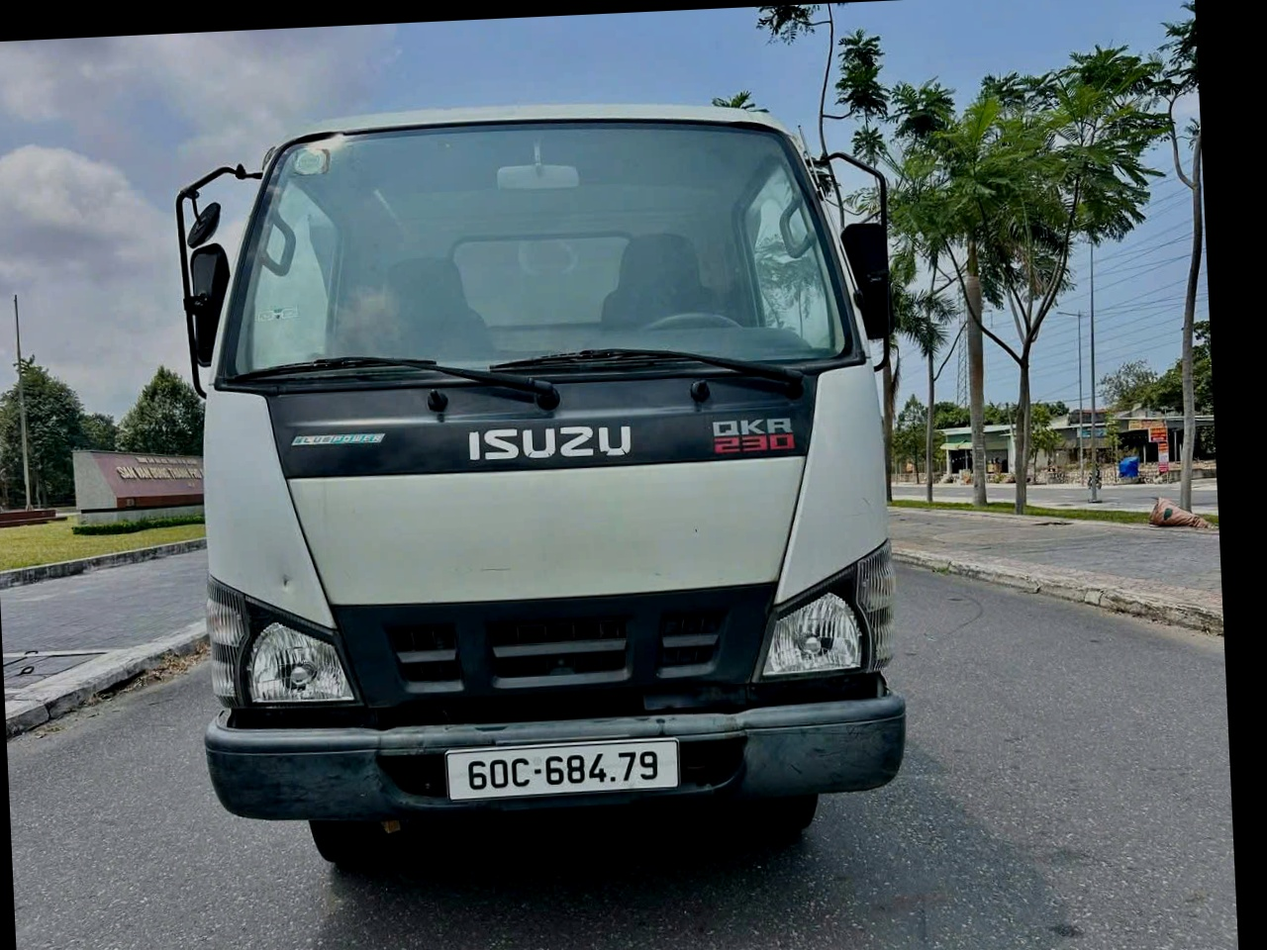Bien-so: (479, 670, 732, 724)
